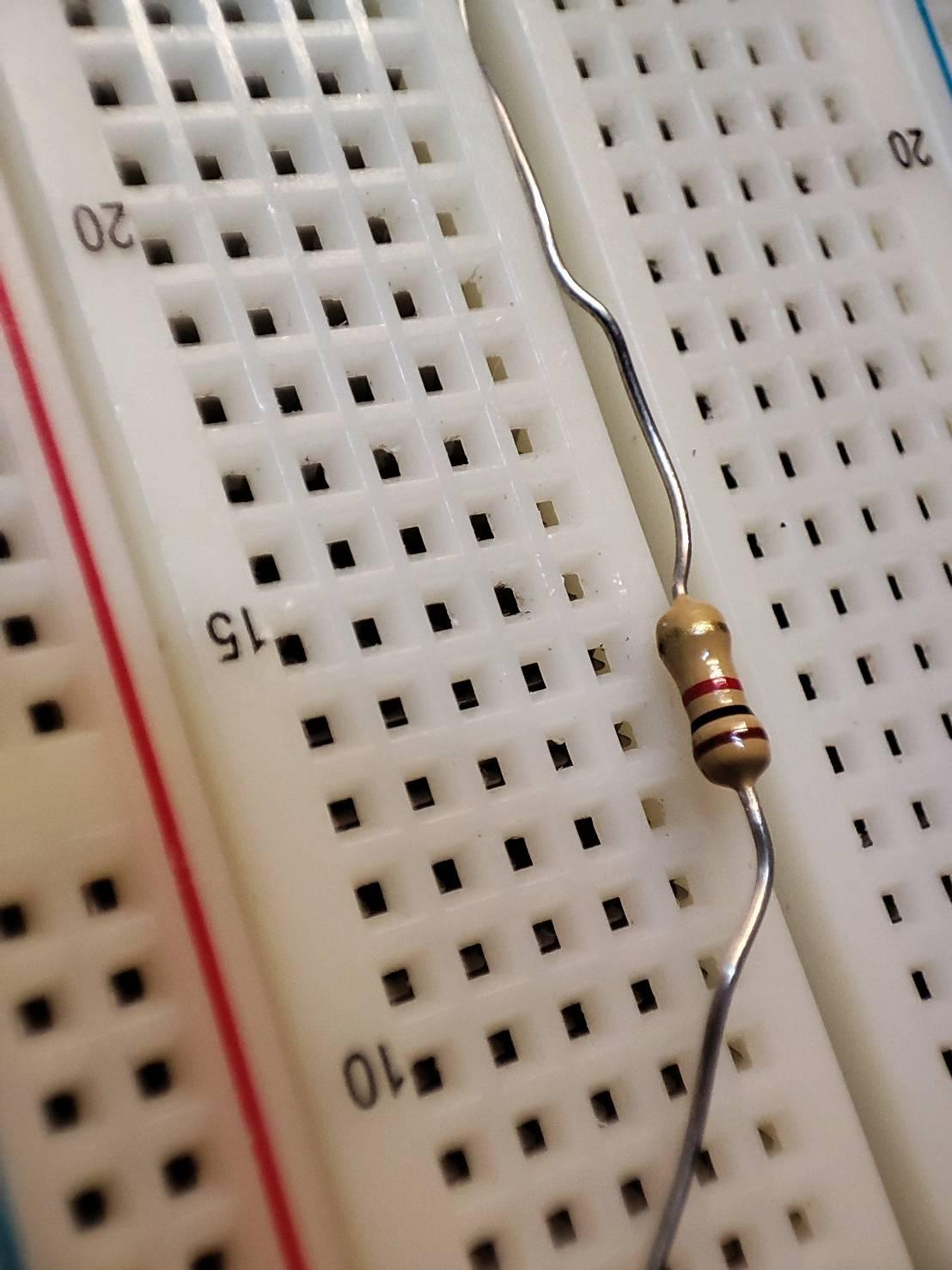resistor: (651, 595, 773, 782)
